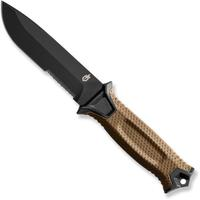knife: (1, 1, 190, 190)
